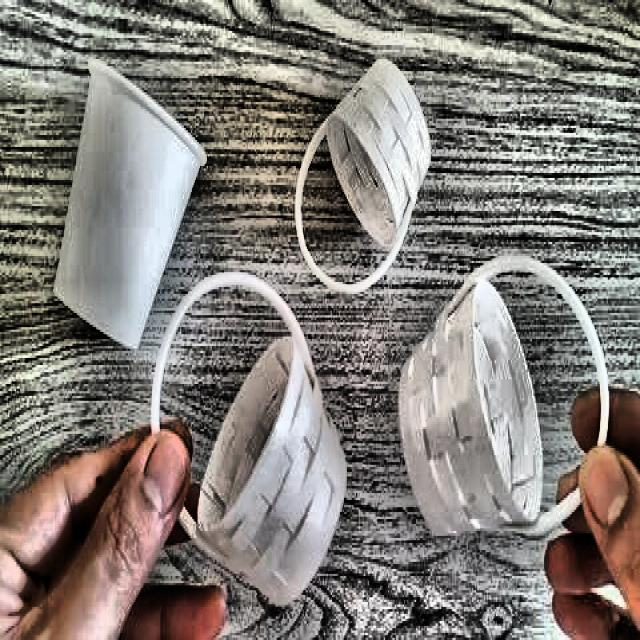Cup: (45, 43, 209, 389)
